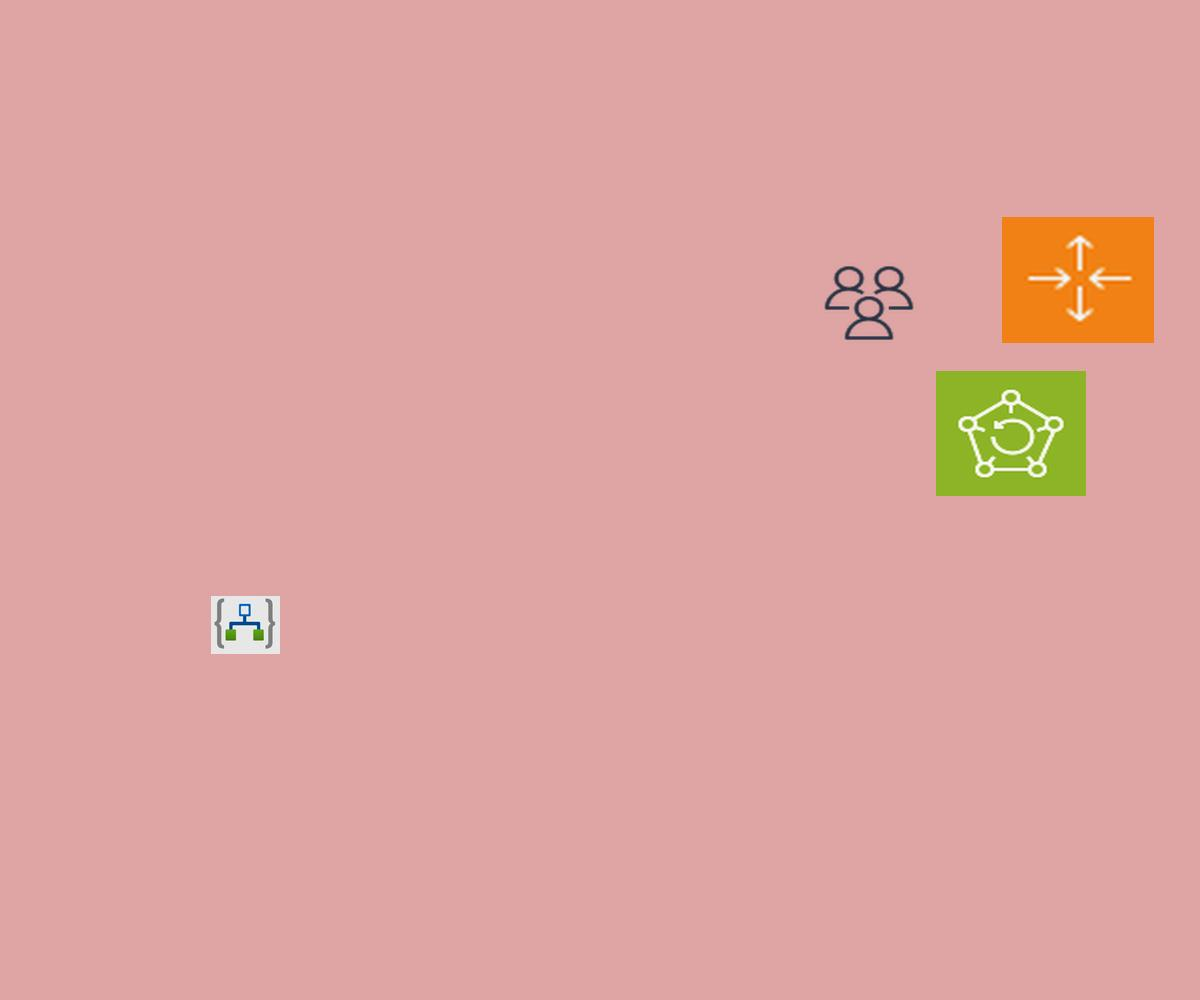AWS-Backup: (936, 371, 1086, 496)
AWS-Res_Users: (821, 263, 917, 343)
AWS-Scaling-group: (1002, 217, 1154, 343)
Azure_integration-204-Logic-Apps: (211, 596, 280, 654)
